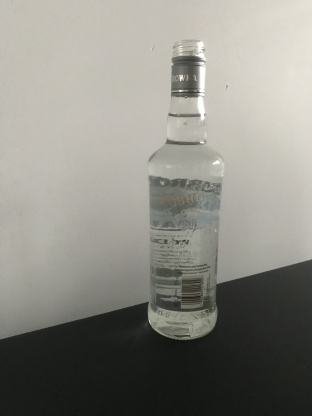nakretka: (169, 37, 207, 98)
